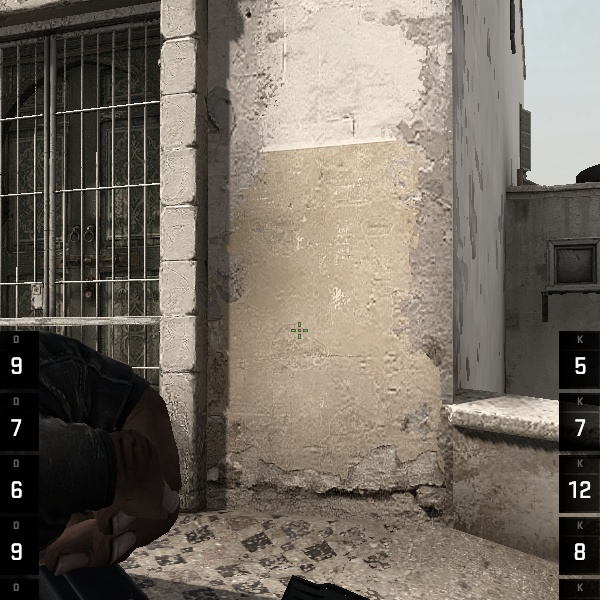t_body: (6, 280, 207, 600)
